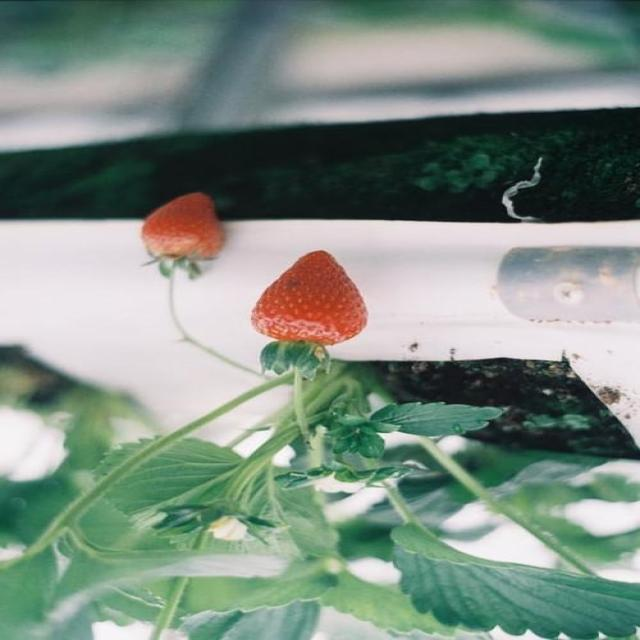mature: (251, 251, 368, 344), (143, 192, 225, 259)
